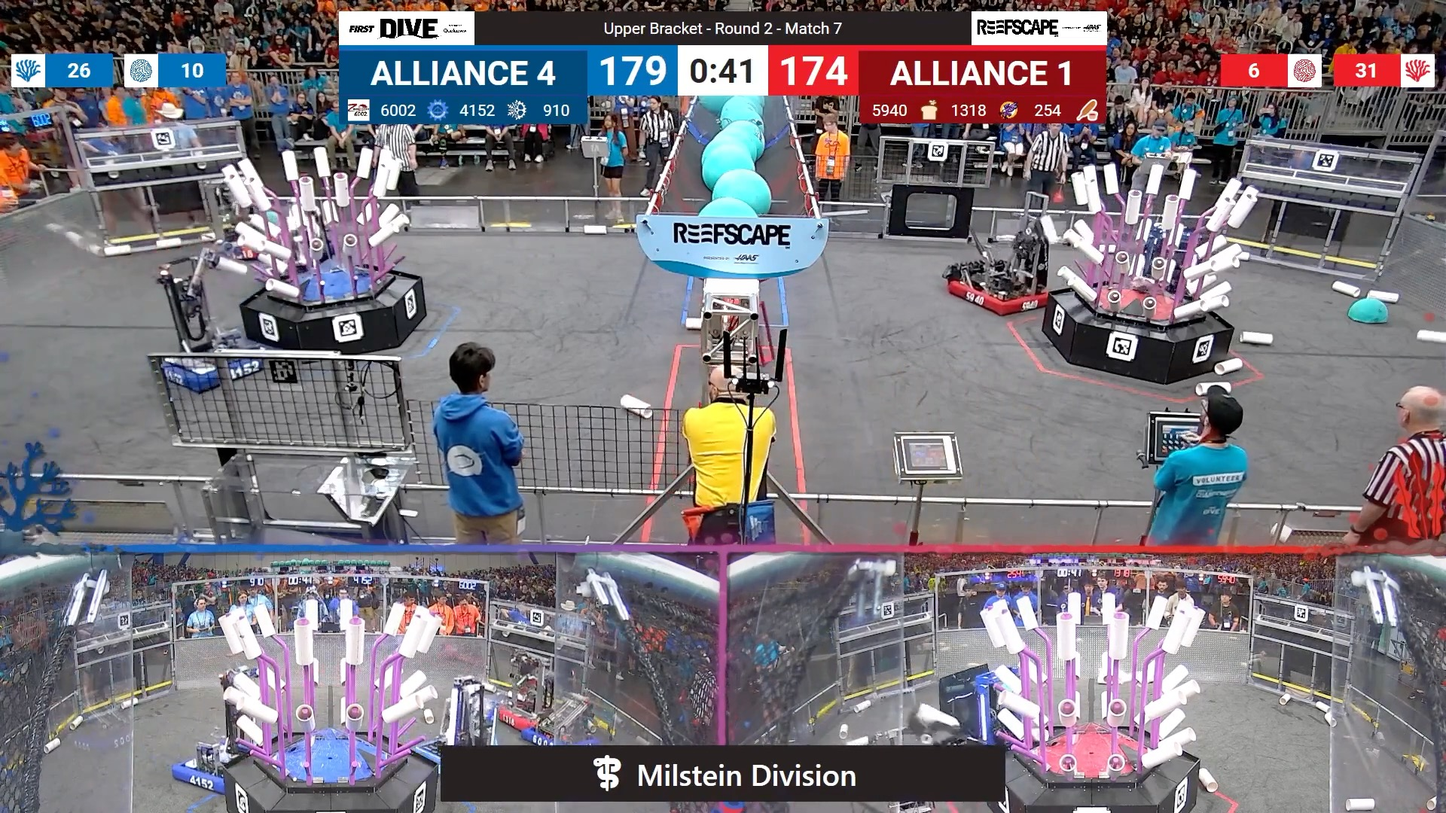bumpers: (943, 269, 1060, 323), (154, 342, 275, 393), (167, 743, 249, 793), (493, 702, 571, 733)
